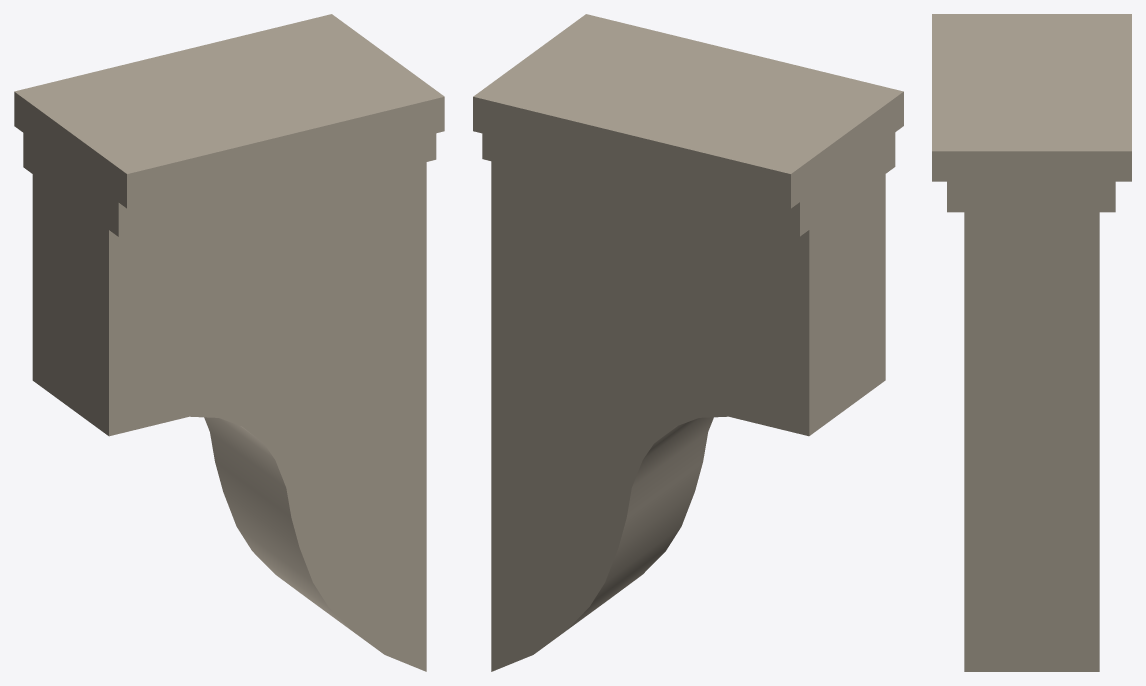
The model's file is Village_Wall_Plaster_Detail_A.fbx.
3 renders of one model, left to right at view 1: azimuth 30°, elevation 25°; view 2: azimuth 150°, elevation 25°; view 3: azimuth 270°, elevation 25°, orthographic. The views are drawn at different scales.
Visible parts, largest first — view 1: Village_Wall_2m_Roof_A.001; view 2: Village_Wall_2m_Roof_A.001; view 3: Village_Wall_2m_Roof_A.001.
Boxes of the visible parts, x1=… form: Village_Wall_2m_Roof_A.001: x1=14, y1=14, x2=444, y2=671; Village_Wall_2m_Roof_A.001: x1=473, y1=14, x2=903, y2=671; Village_Wall_2m_Roof_A.001: x1=932, y1=14, x2=1131, y2=671.
Bounding box in the file's own units: 60 × 106 × 36.96.
